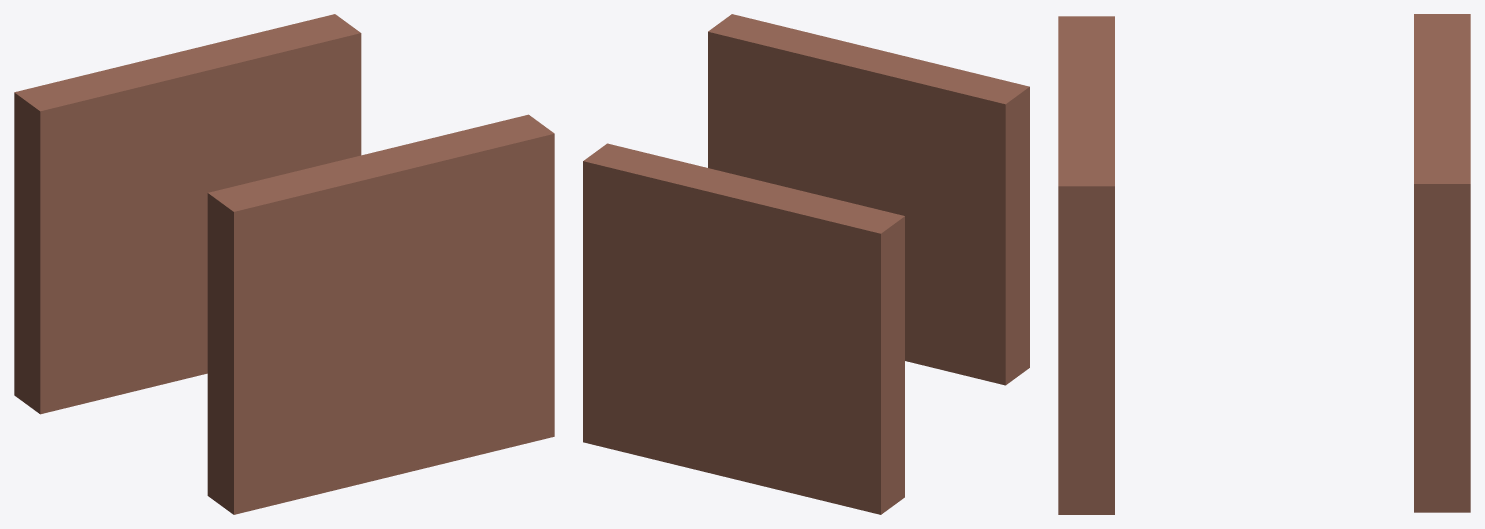
Rendered from Random_Nether_Portal_FIN.glb.
3 views of the same model, side by side, from view 1: azimuth 30°, elevation 25°; view 2: azimuth 150°, elevation 25°; view 3: azimuth 270°, elevation 25° (orthographic). The views are drawn at different scales.
Visible parts, largest first — view 1: Cube.001; view 2: Cube.001; view 3: Cube.001.
Part boxes in pixels (bbox=[...]): Cube.001: bbox=[14, 14, 554, 514]; Cube.001: bbox=[583, 14, 1029, 514]; Cube.001: bbox=[1058, 14, 1470, 514].
Size of the model in its own units: 7.35 by 6.31 by 6.9.
